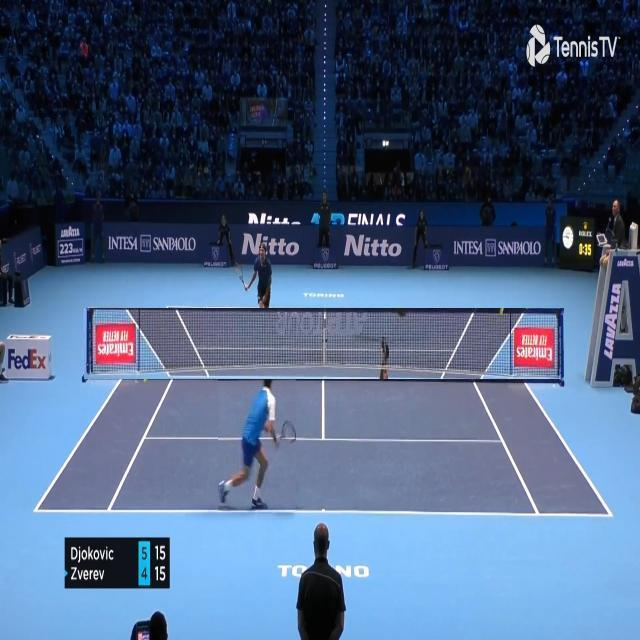court: (32, 306, 615, 519)
net: (84, 308, 564, 379)
player: (218, 368, 296, 512)
